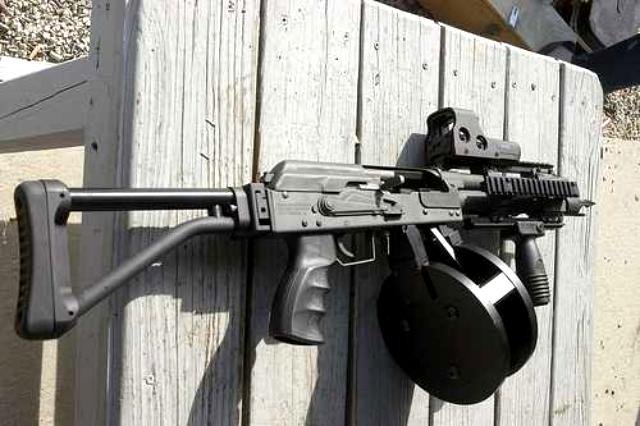rifle: (15, 91, 587, 349)
